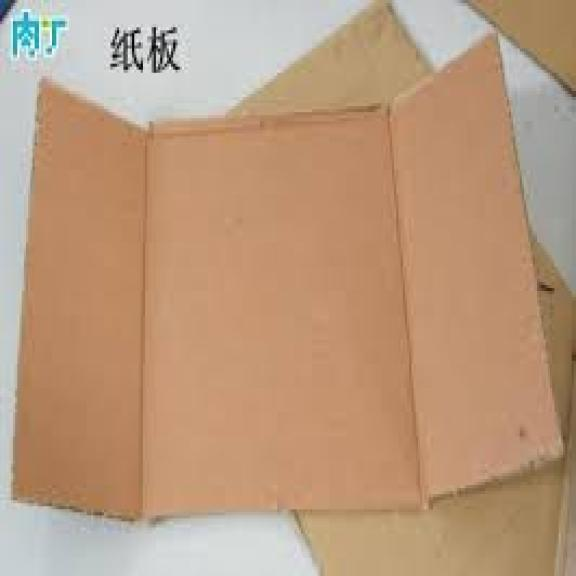Kertas: (13, 36, 559, 515), (465, 0, 576, 98), (470, 0, 575, 93)
